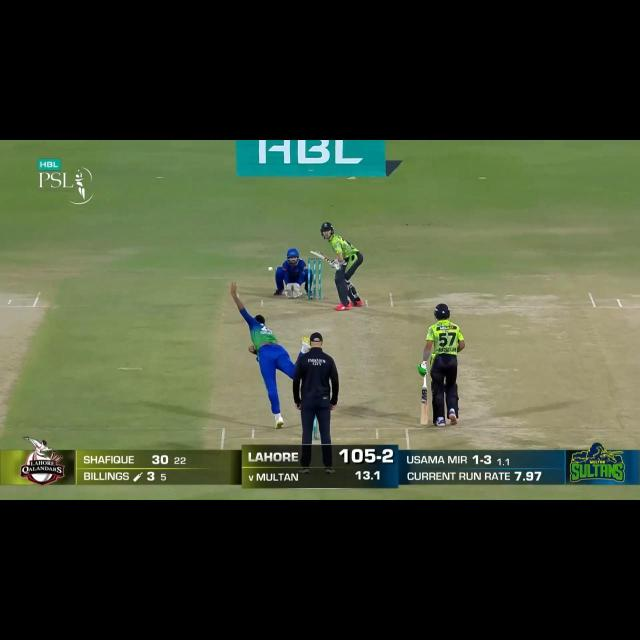bat: (418, 386, 430, 426), (307, 249, 333, 264)
toe: (418, 419, 430, 427), (307, 249, 319, 256)
